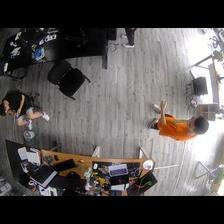normal: (146, 100, 212, 143)
